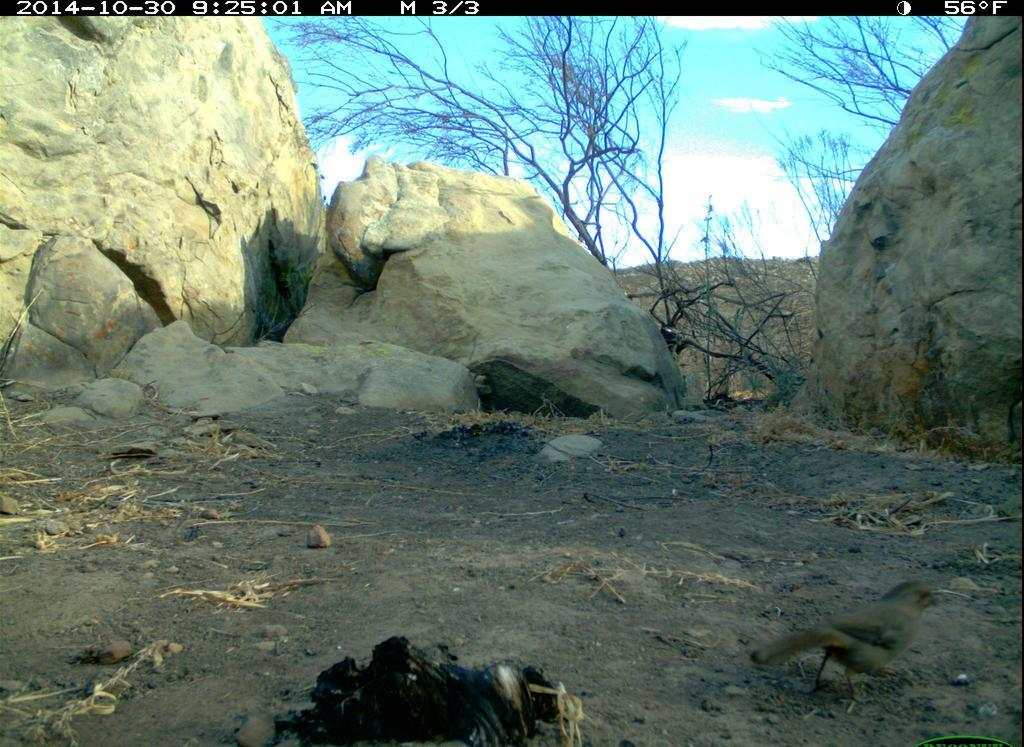bird: (745, 572, 948, 708)
